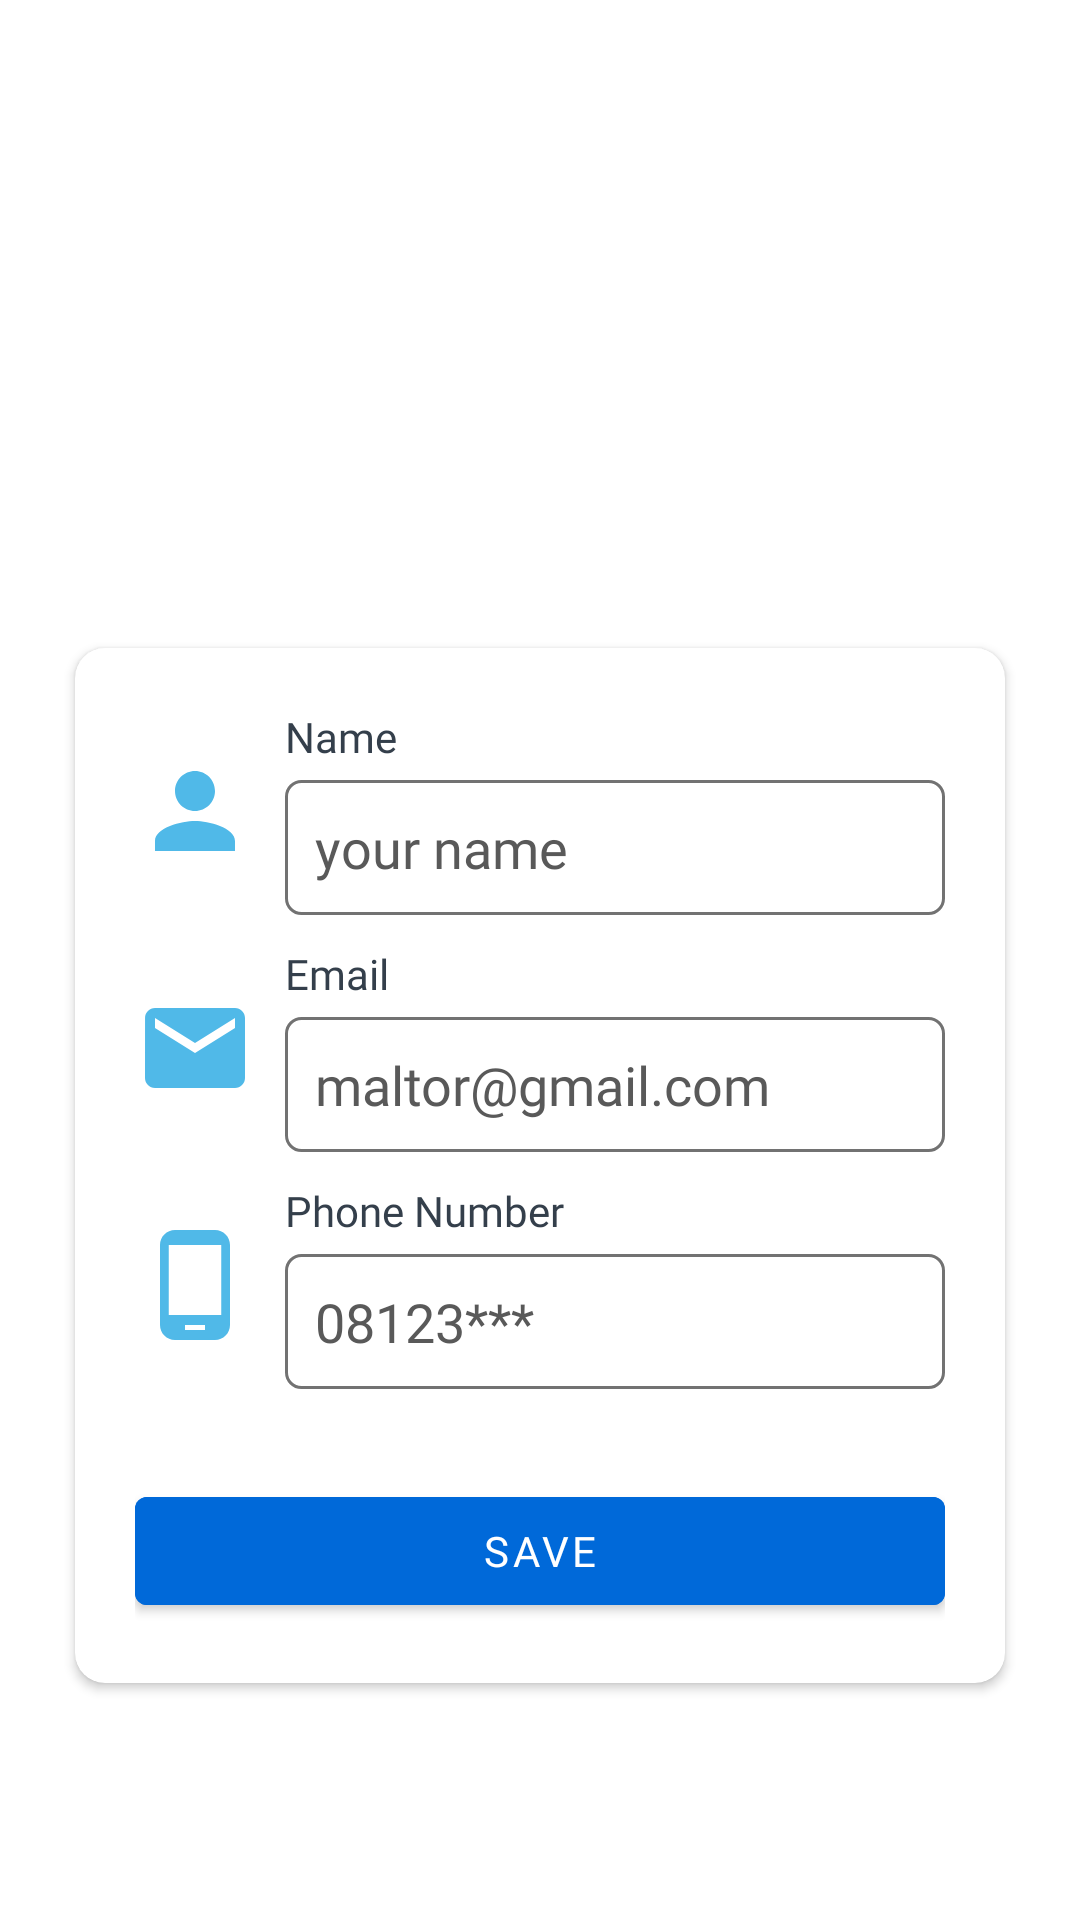

Screen size 1080w x 1920h. Icon name, then its center in pixels as point (x, y):
person: point (195, 811)
phone android: point (195, 1285)
